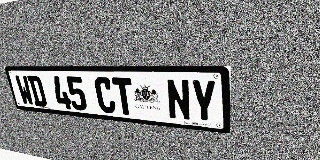4: (51, 76, 73, 110)
5: (66, 76, 88, 111)
C: (93, 77, 117, 114)
D: (27, 75, 48, 107)
N: (166, 79, 191, 121)
T: (111, 77, 136, 116)
W: (14, 75, 35, 106)
Y: (190, 79, 217, 124)
